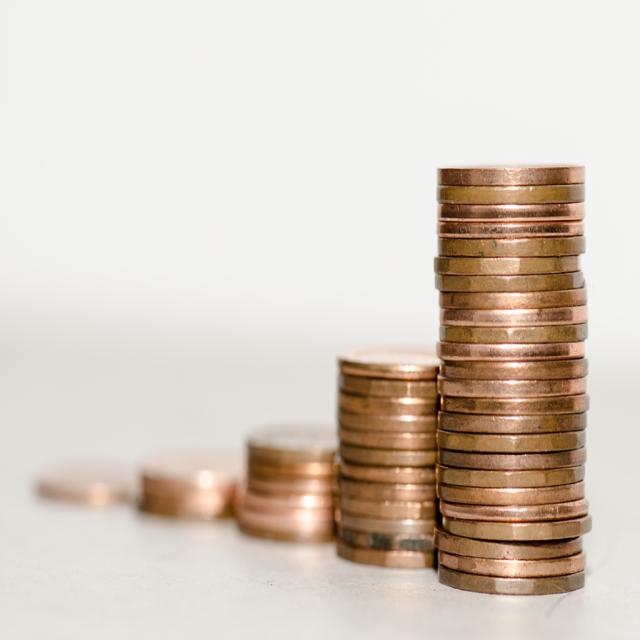Coin: (31, 150, 594, 595)
